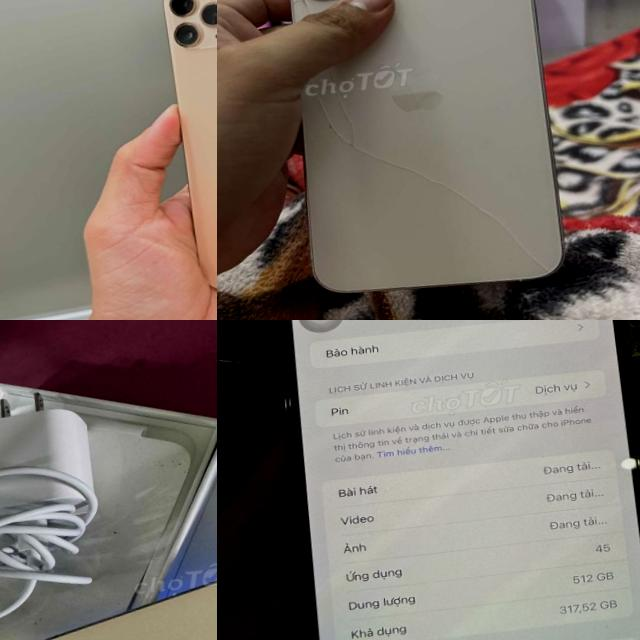physical_damage: (283, 0, 560, 296)
